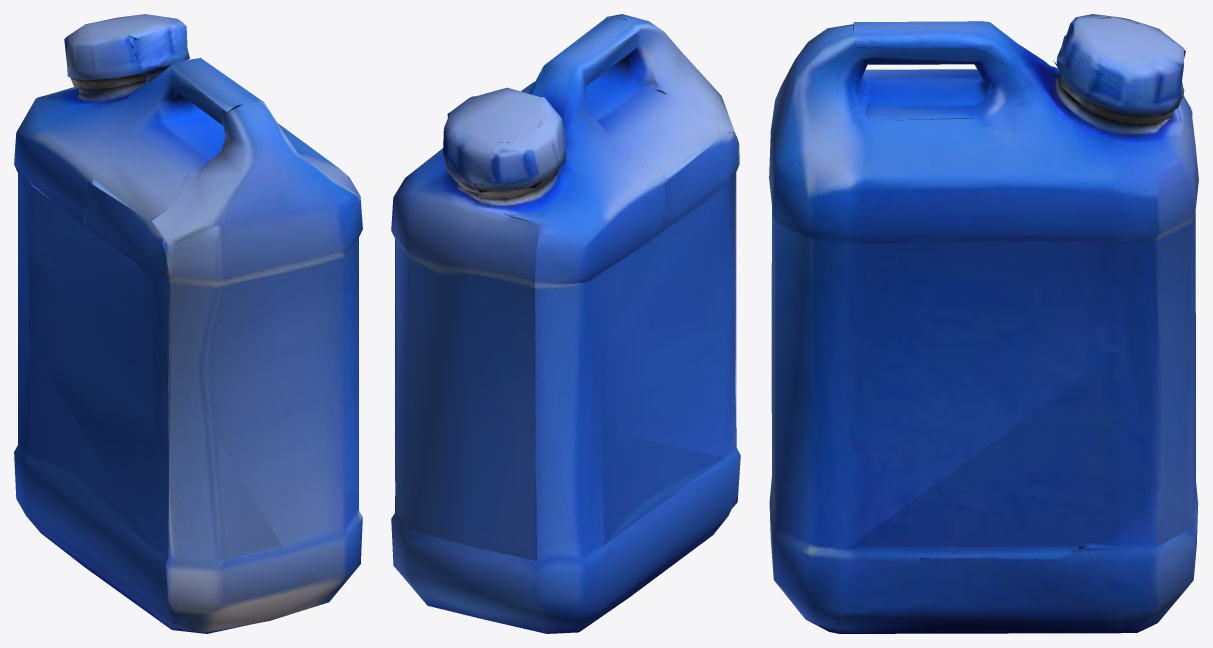
Rendered from jerigen.glb.
3 views of the same model, side by side, from view 1: azimuth 30°, elevation 25°; view 2: azimuth 150°, elevation 25°; view 3: azimuth 270°, elevation 25° (orthographic). The views are drawn at different scales.
Visible parts, largest first — view 1: model.002; view 2: model.002; view 3: model.002.
Boxes of the visible parts, left/top/right/bottom form: model.002: left=14, top=14, right=362, bottom=633; model.002: left=391, top=14, right=740, bottom=633; model.002: left=769, top=14, right=1198, bottom=633.
Size of the model in its own units: 0.7725 by 1.84 by 1.27.
1 material, 1 textured.
